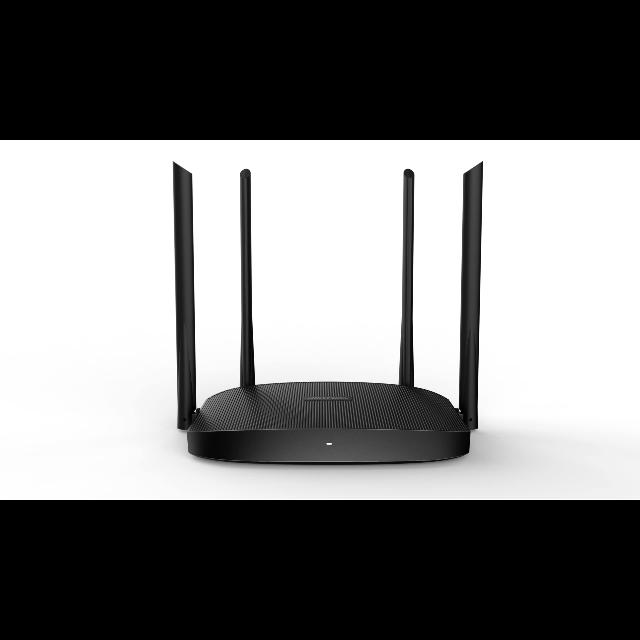Router: (172, 162, 488, 465)
